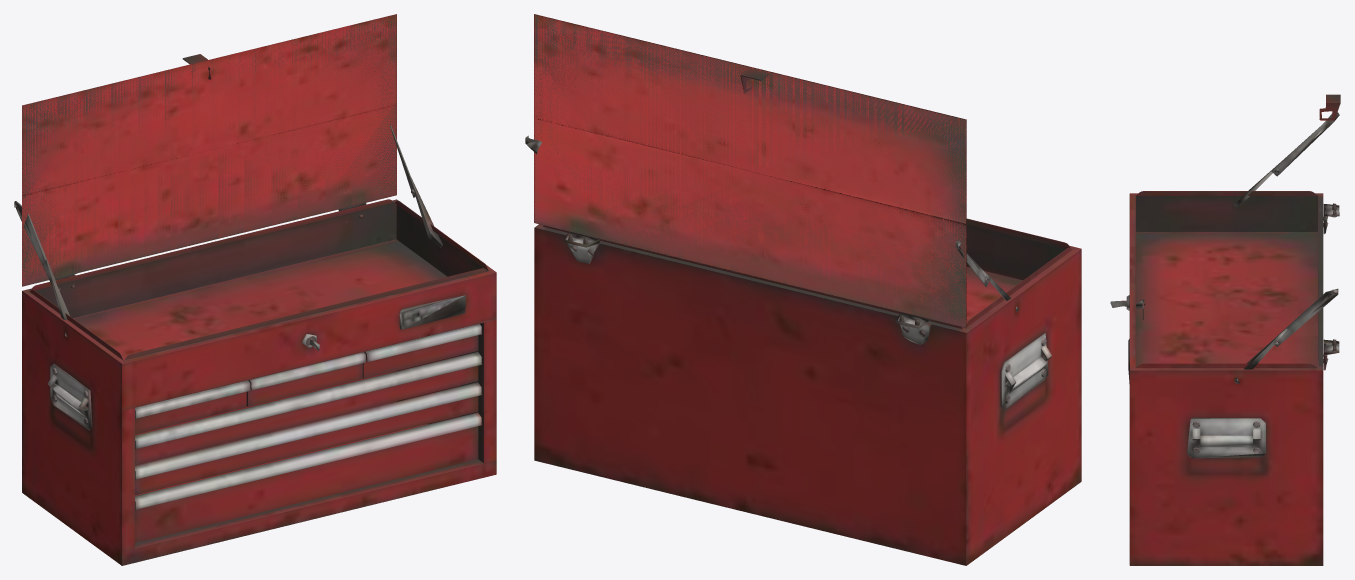
The model's file is toolchest.glb.
3 views of the same model, side by side, from view 1: azimuth 30°, elevation 25°; view 2: azimuth 150°, elevation 25°; view 3: azimuth 270°, elevation 25° (orthographic). The views are drawn at different scales.
Visible parts, largest first — view 1: metal_tool_chest_chest; view 2: metal_tool_chest_chest; view 3: metal_tool_chest_chest.
Boxes of the visible parts, x1,y1,x2,y2 form: metal_tool_chest_chest: (14, 14, 496, 565); metal_tool_chest_chest: (525, 14, 1081, 565); metal_tool_chest_chest: (1110, 94, 1340, 565).
Size of the model in its own units: 0.6841 by 0.6518 by 0.3625.
Materials: 1 (1 with a texture image).
